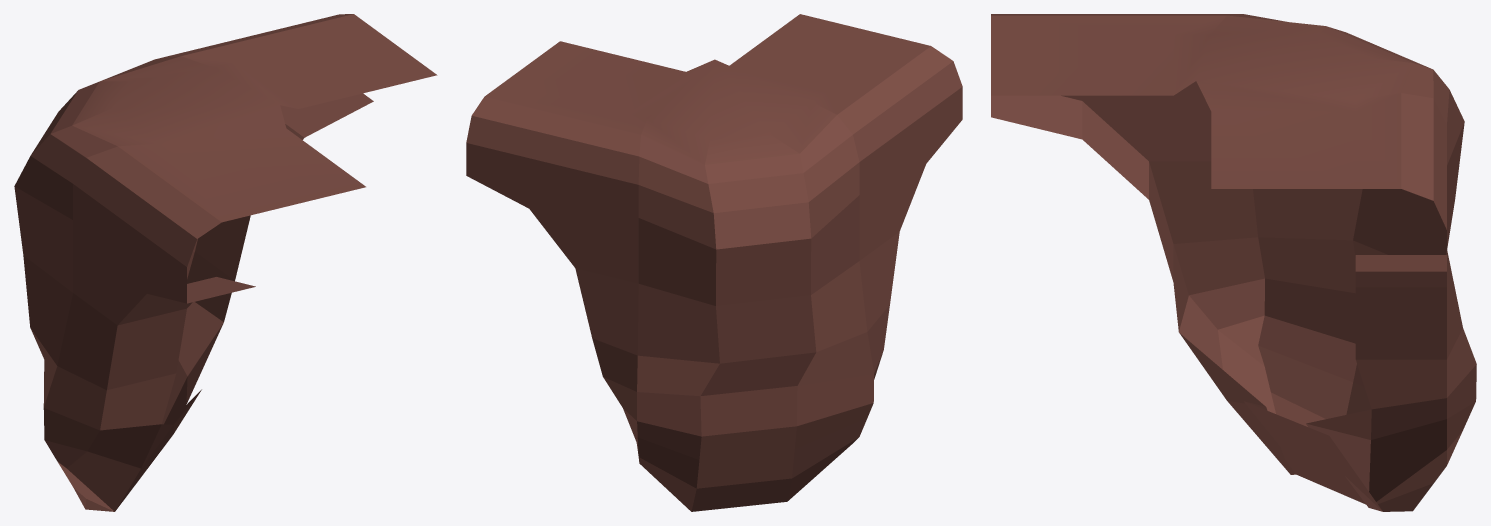
The model's file is SM_drop_tip_single.fbx.
3 renders of one model, left to right at view 1: azimuth 30°, elevation 25°; view 2: azimuth 150°, elevation 25°; view 3: azimuth 270°, elevation 25°, orthographic. The views are drawn at different scales.
Visible parts, largest first — view 1: SM_drop_tip_single; view 2: SM_drop_tip_single; view 3: SM_drop_tip_single.
Boxes of the visible parts, box(x1,y1,x2,y2) form: SM_drop_tip_single: box(14, 14, 437, 511); SM_drop_tip_single: box(466, 14, 962, 511); SM_drop_tip_single: box(991, 14, 1476, 511).
Bounding box in the file's own units: 133 × 142 × 133.
1 material, 1 textured.
